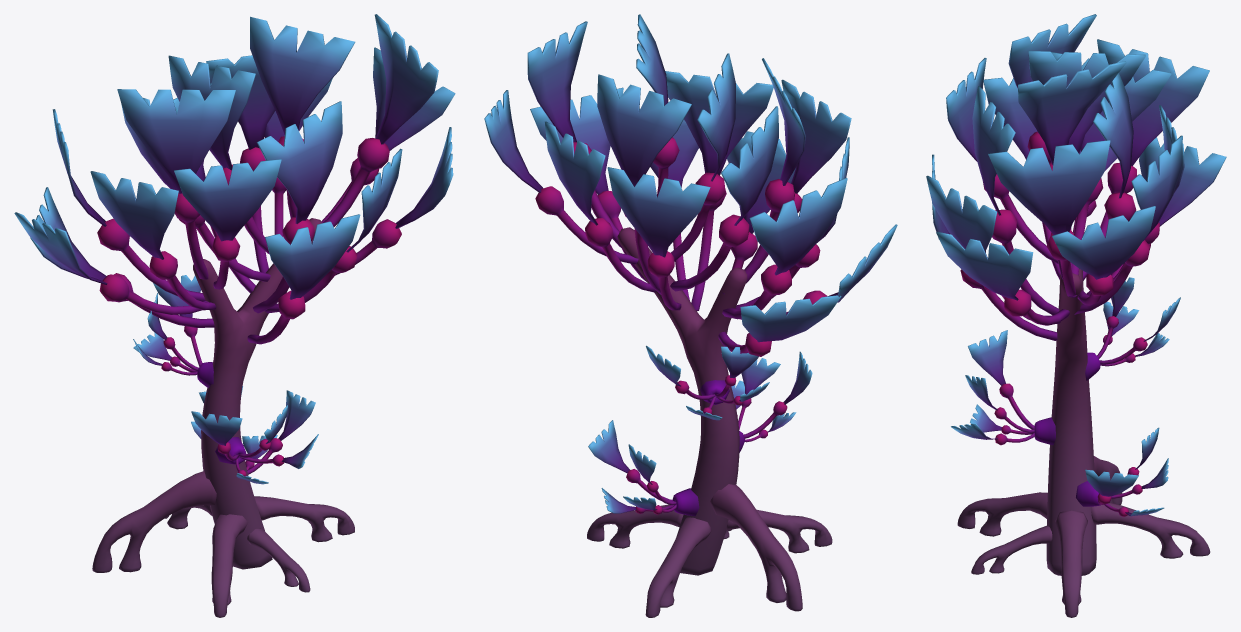
File: anp_tree_3.fbx
3 views of the same model, side by side, from view 1: azimuth 30°, elevation 25°; view 2: azimuth 150°, elevation 25°; view 3: azimuth 270°, elevation 25° (orthographic).
Parts seen in each view (by area): view 1: t3; view 2: t3; view 3: t3.
Boxes of the visible parts, x1,y1,x2,y2 form: t3: [14, 14, 455, 617]; t3: [484, 14, 897, 617]; t3: [926, 14, 1226, 617].
Size of the model in its own units: 458 by 579 by 300.
